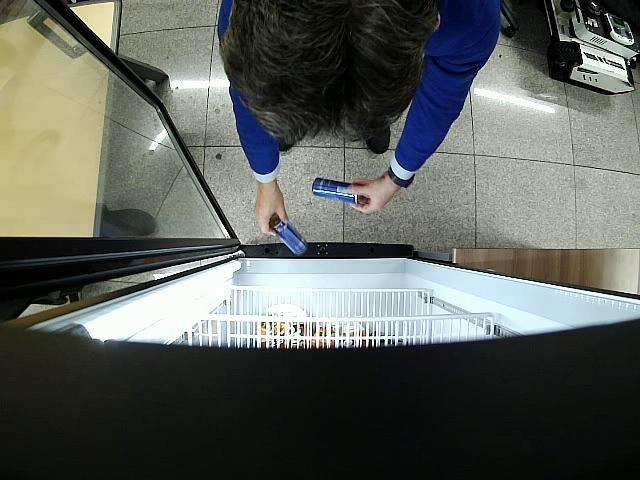16_hot6: (268, 214, 308, 256), (312, 177, 359, 204)
